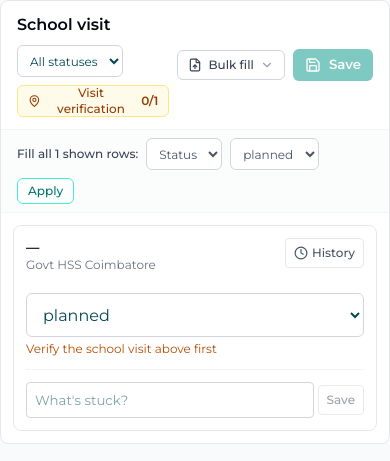
Scenario: tracker grid — the gate under a workflow task › still allows the stages before done
Select "visited" in the dropdown below "Govt HSS Coimbatore" at (195, 315), box 26,293 -> 364,337
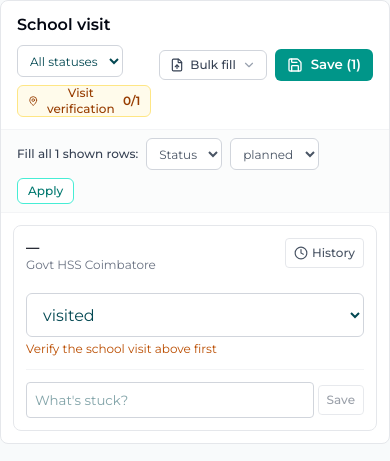
Check: the button "Save (1)" is shown, box 275,50 -> 373,80
